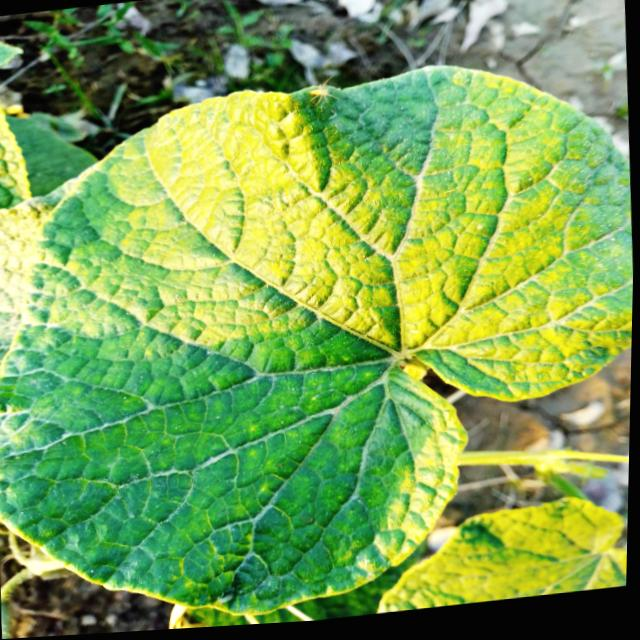Fresh-Leaf: (0, 64, 632, 620)
